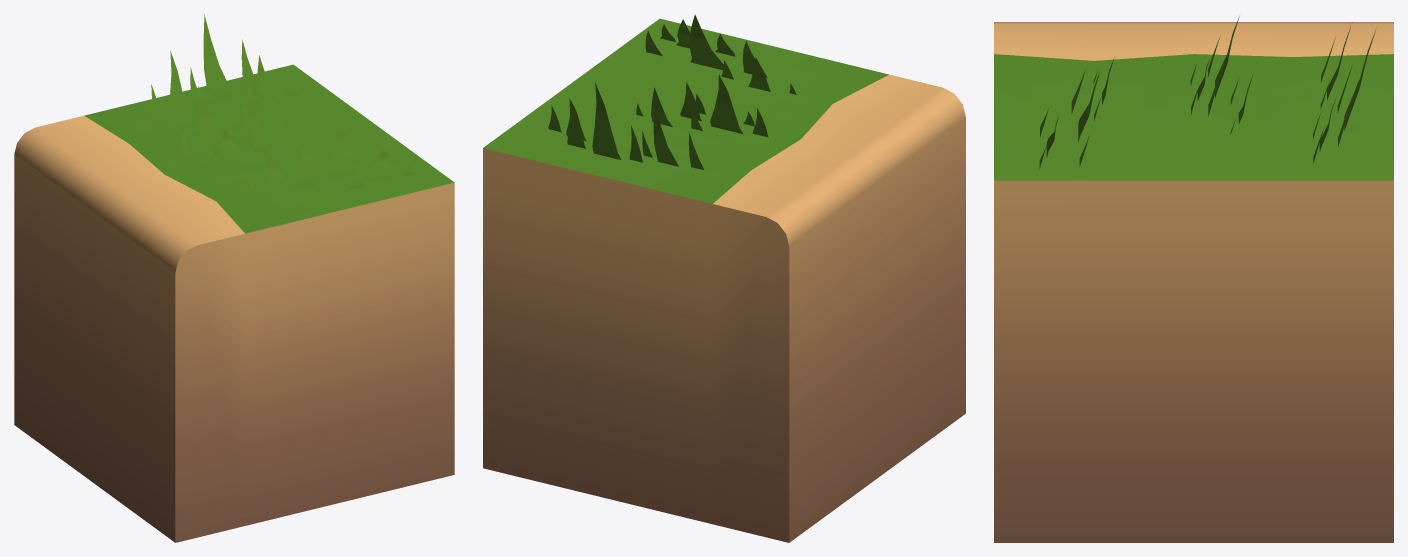
File: side m tile.fbx
The picture shows the model from 3 angles, left to right: view 1: azimuth 30°, elevation 25°; view 2: azimuth 150°, elevation 25°; view 3: azimuth 270°, elevation 25°; orthographic projection. The views are drawn at different scales.
Parts seen in each view (by area): view 1: m_s_tile, m_s_grass; view 2: m_s_tile, m_s_grass; view 3: m_s_tile, m_s_grass.
Part boxes in pixels (box(x1,y1,x2,y2)): m_s_tile: box(14, 64, 454, 542); m_s_grass: box(150, 14, 417, 193); m_s_tile: box(483, 18, 965, 542); m_s_grass: box(548, 14, 796, 170); m_s_tile: box(994, 22, 1393, 542); m_s_grass: box(1039, 16, 1376, 168).
Bounding box in the file's own units: 10 × 12.69 × 10.
